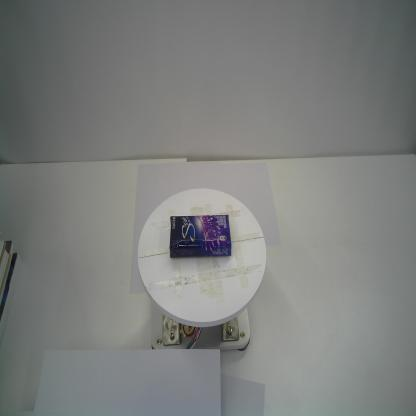Gum: (169, 213, 232, 259)
